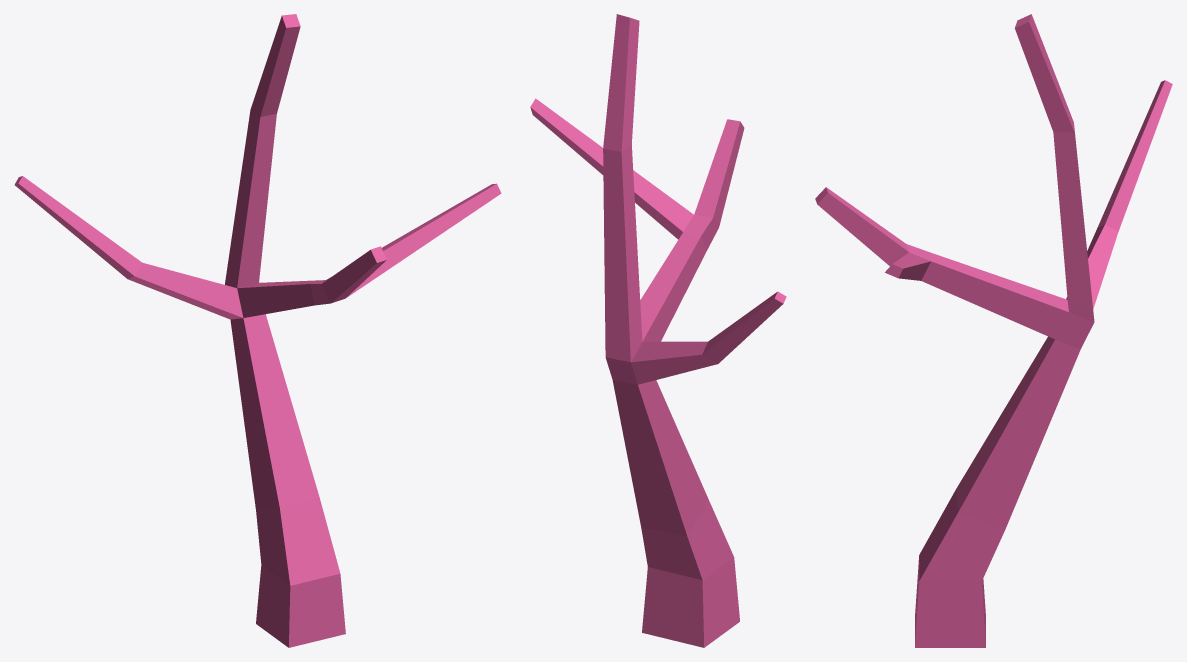
Rendered from bushC.glb.
3 views of the same model, side by side, from view 1: azimuth 30°, elevation 25°; view 2: azimuth 150°, elevation 25°; view 3: azimuth 270°, elevation 25° (orthographic). The views are drawn at different scales.
Visible parts, largest first — view 1: Cube; view 2: Cube; view 3: Cube.
Boxes of the visible parts, x1,y1,x2,y2 form: Cube: [14, 14, 501, 647]; Cube: [530, 14, 786, 647]; Cube: [815, 14, 1172, 647].
Size of the model in its own units: 0.3018 by 0.4714 by 0.2431.
